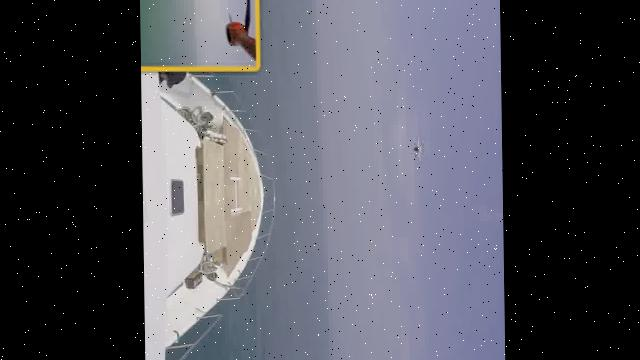drone: (405, 135, 429, 163)
